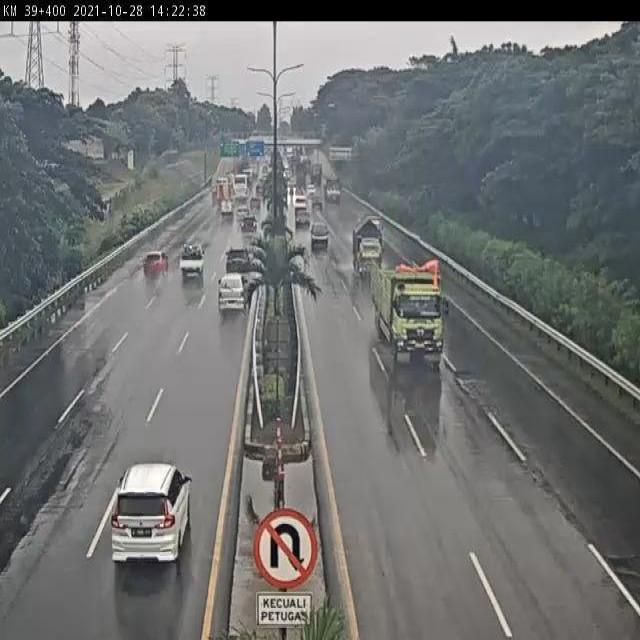truck-l-: (364, 255, 448, 366)
truck-s-: (353, 216, 387, 281)
